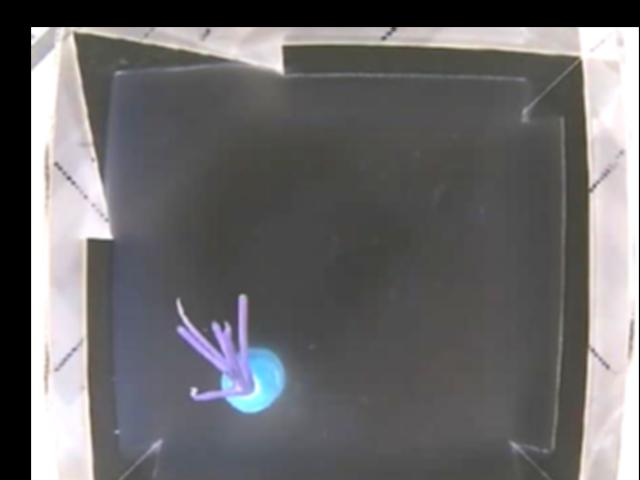Carrot: (173, 297, 285, 417)
